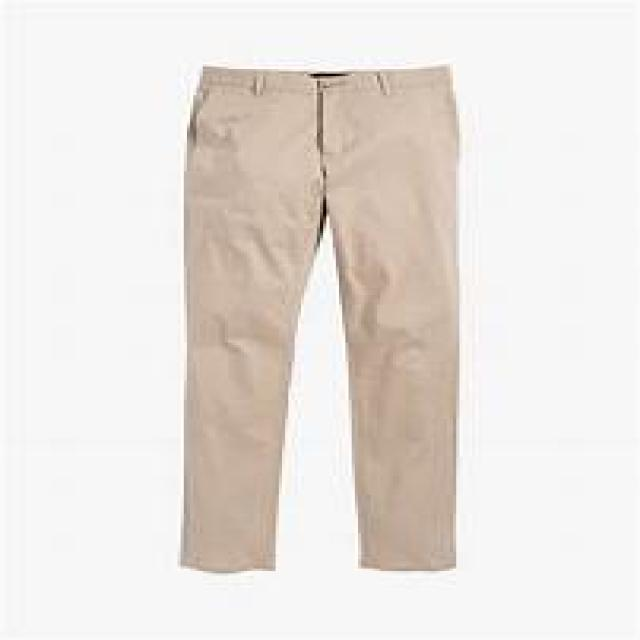long-pants: (177, 64, 453, 578)
